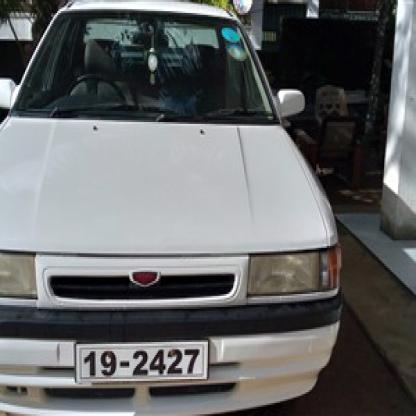car: (0, 2, 343, 414)
